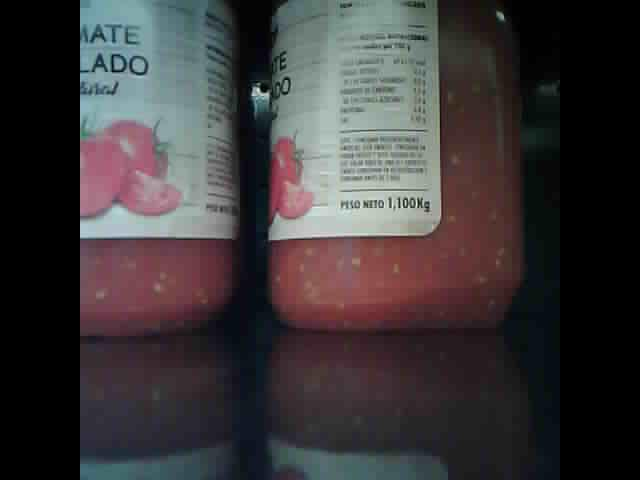tomate: (264, 6, 522, 333), (82, 3, 245, 338)
